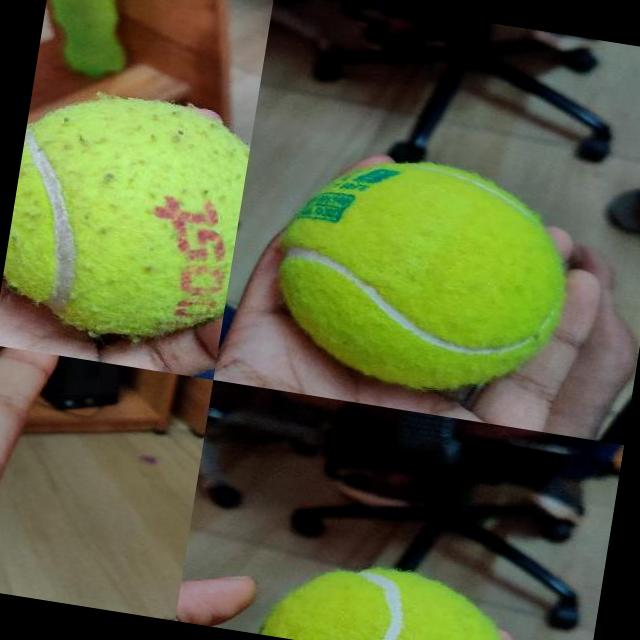tennis-ball: (262, 142, 587, 410), (0, 81, 253, 353), (258, 551, 524, 640)
